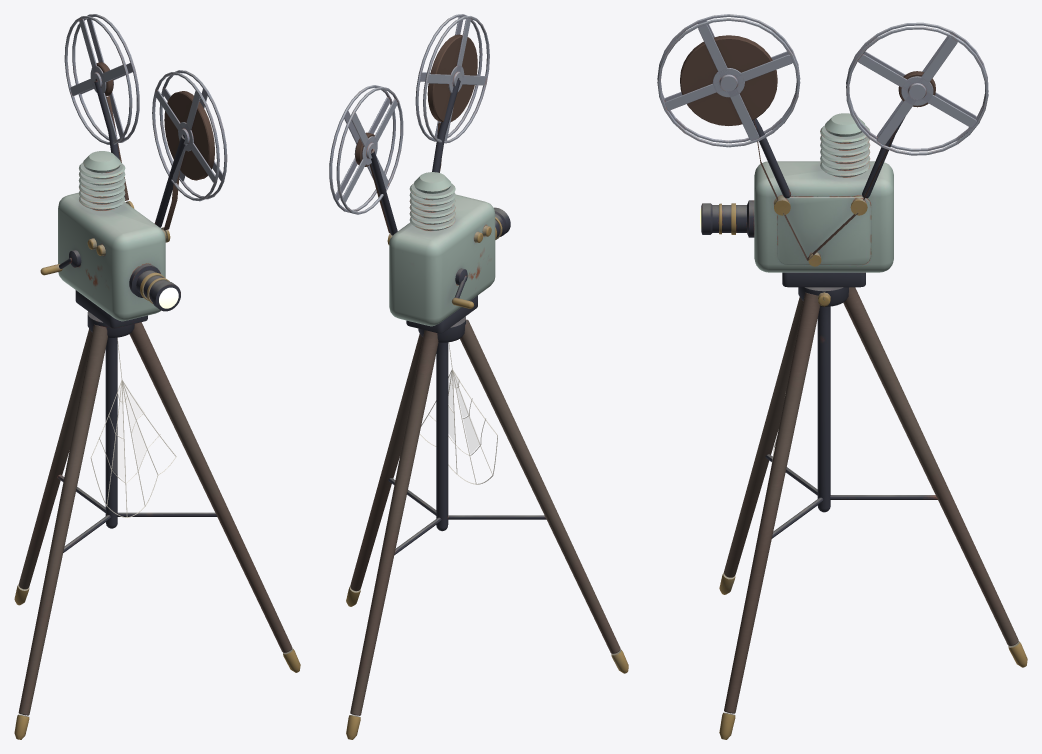
Rendered from film-projector.glb.
The picture shows the model from 3 angles, left to right: view 1: azimuth 30°, elevation 25°; view 2: azimuth 150°, elevation 25°; view 3: azimuth 270°, elevation 25°; orthographic projection. The views are drawn at different scales.
Visible parts, largest first — view 1: film-projector_body, film-projector_reel_front, film-projector_reel_back, film-projector_web; view 2: film-projector_body, film-projector_reel_front, film-projector_reel_back, film-projector_web; view 3: film-projector_body, film-projector_reel_front, film-projector_reel_back.
Part boxes in pixels (x1,y1,x2,y2): film-projector_body: (14, 79, 300, 739); film-projector_reel_front: (152, 70, 227, 201); film-projector_reel_back: (64, 14, 139, 144); film-projector_web: (90, 337, 176, 517); film-projector_body: (346, 78, 628, 739); film-projector_reel_front: (415, 14, 489, 143); film-projector_reel_back: (329, 85, 403, 214); film-projector_web: (419, 342, 497, 484); film-projector_body: (701, 113, 1027, 739); film-projector_reel_front: (657, 14, 800, 147); film-projector_reel_back: (846, 22, 988, 155).
Bounding box in the file's own units: 0.7609 × 1.59 × 0.7954.
6 materials, 3 textured.
